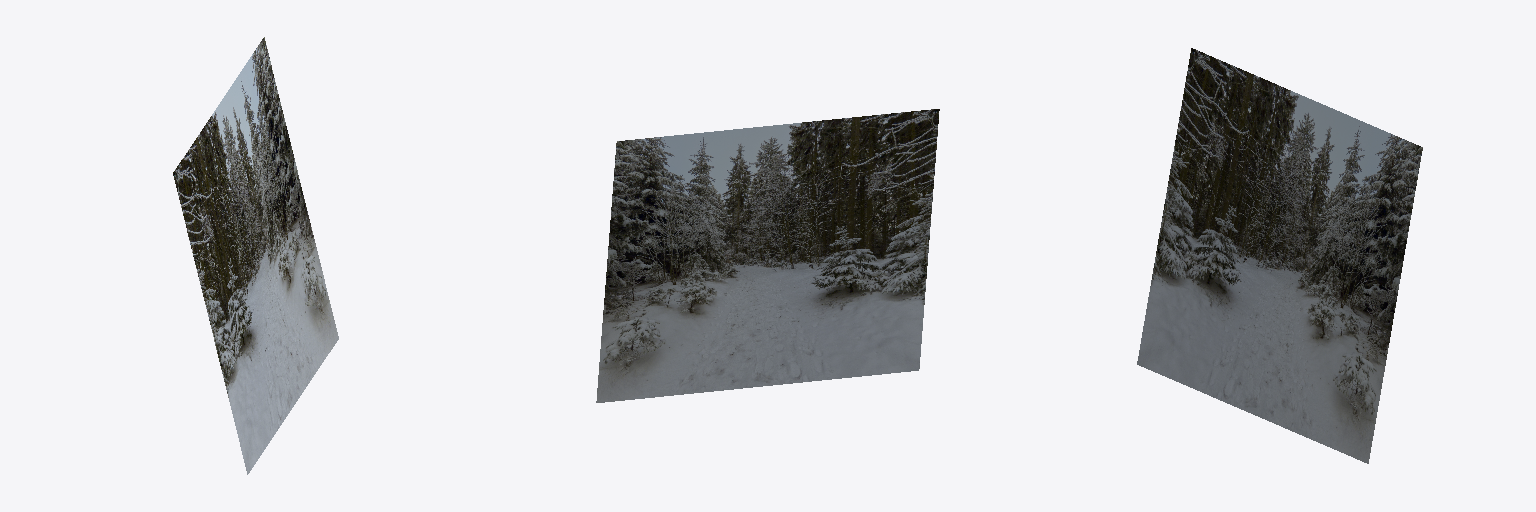
3 views of the same model, side by side, from view 1: azimuth 30°, elevation 25°; view 2: azimuth 150°, elevation 25°; view 3: azimuth 270°, elevation 25° (orthographic).
Visible parts, largest first — view 1: nurbsToPoly1; view 2: nurbsToPoly1; view 3: nurbsToPoly1.
Boxes of the visible parts, box(x1,y1,x2,y2) form: nurbsToPoly1: box(173, 37, 338, 474); nurbsToPoly1: box(596, 109, 939, 402); nurbsToPoly1: box(1137, 48, 1422, 463).
Size of the model in its own units: 11.18 by 12.36 by 10.87.
1 materials, 1 textured.